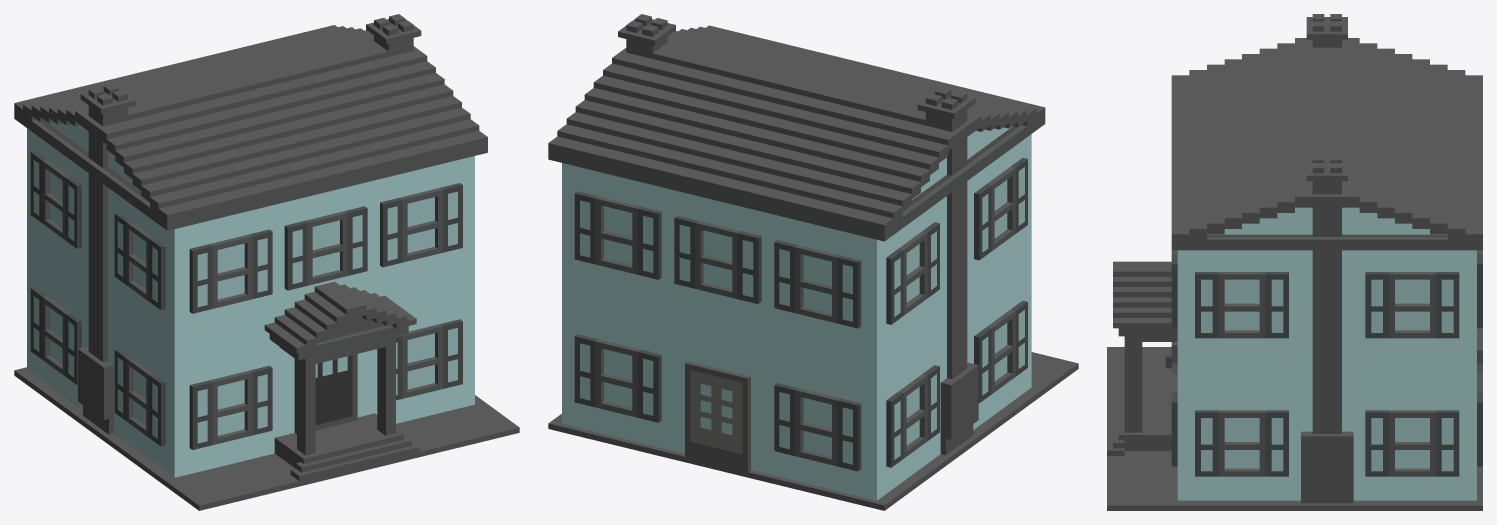
File: bld_house4c.obj
The picture shows the model from 3 angles, left to right: view 1: azimuth 30°, elevation 25°; view 2: azimuth 150°, elevation 25°; view 3: azimuth 270°, elevation 25°; orthographic projection. The views are drawn at different scales.
Bounding box in the file's own units: 64 × 64 × 64.
